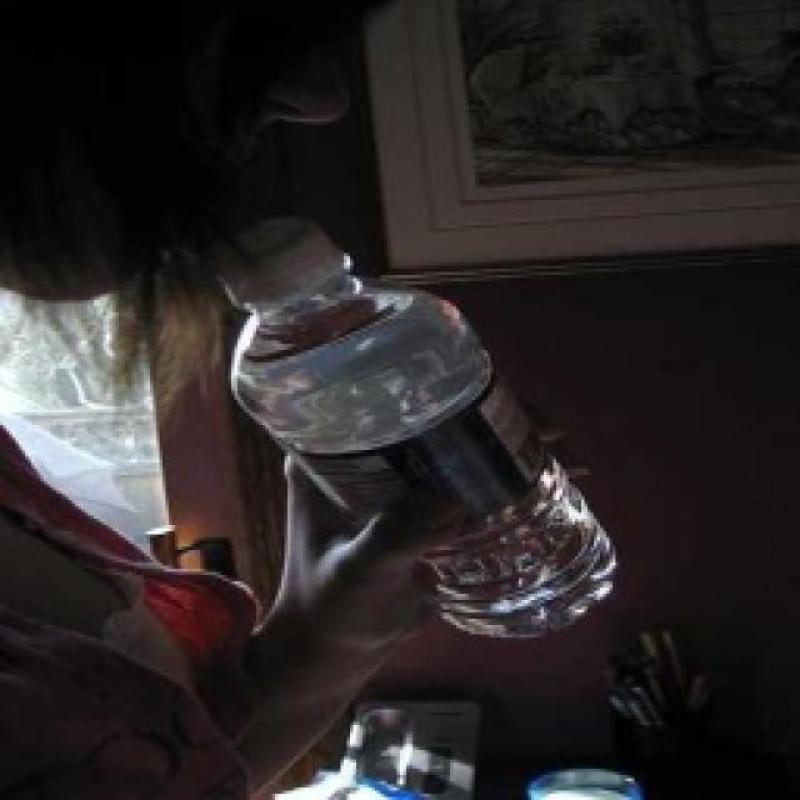botella: (220, 220, 620, 640)
